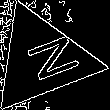N_W: (9, 31, 75, 88)
